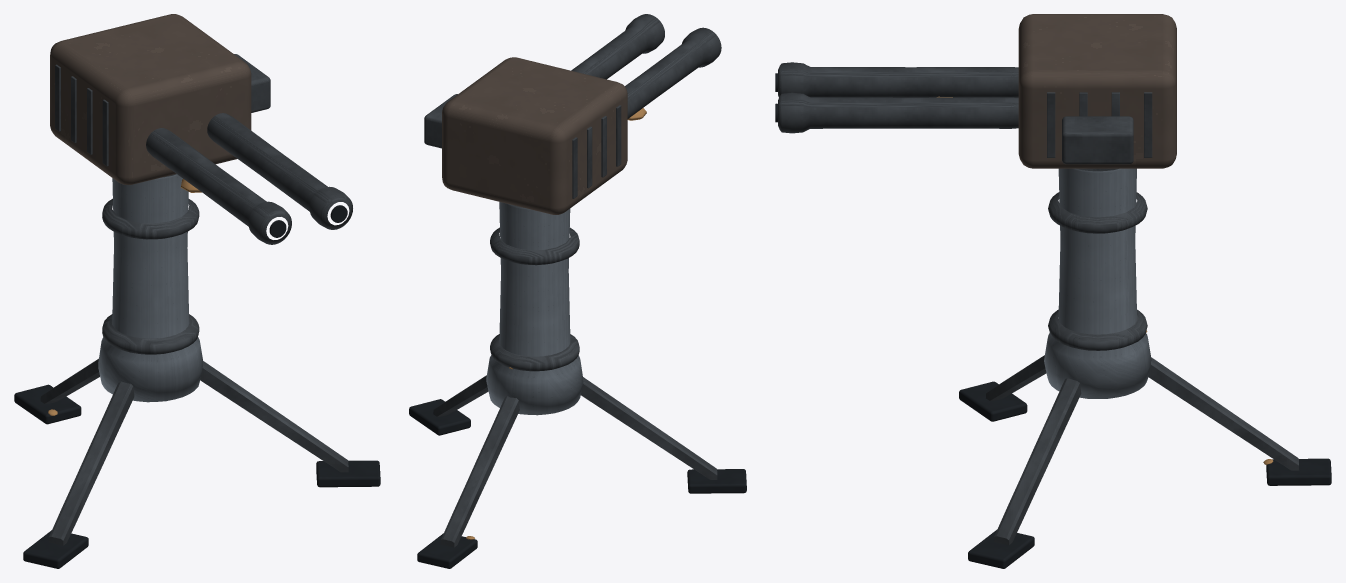
File: turret.lod1.glb
3 views of the same model, side by side, from view 1: azimuth 30°, elevation 25°; view 2: azimuth 150°, elevation 25°; view 3: azimuth 270°, elevation 25° (orthographic). The views are drawn at different scales.
Parts seen in each view (by area): view 1: darksteel / oil-blackened fittings, ceramic / ceramic composite panel, alloy / machined anodized alloy, polymer / stippled polymer; view 2: ceramic / ceramic composite panel, darksteel / oil-blackened fittings, alloy / machined anodized alloy, polymer / stippled polymer; view 3: darksteel / oil-blackened fittings, ceramic / ceramic composite panel, alloy / machined anodized alloy, polymer / stippled polymer.
Part boxes in pixels (x1,y1,x2,y2): darksteel / oil-blackened fittings: (40, 54, 352, 545); ceramic / ceramic composite panel: (50, 14, 251, 185); alloy / machined anodized alloy: (98, 174, 202, 402); polymer / stippled polymer: (14, 205, 380, 568); ceramic / ceramic composite panel: (442, 57, 627, 214); darksteel / oil-blackened fittings: (424, 14, 721, 547); alloy / machined anodized alloy: (486, 202, 583, 415); polymer / stippled polymer: (409, 399, 746, 568); darksteel / oil-blackened fittings: (778, 62, 1299, 545); ceramic / ceramic composite panel: (1018, 14, 1176, 168); alloy / machined anodized alloy: (1044, 168, 1151, 398); polymer / stippled polymer: (775, 73, 1331, 568).
Bounding box in the file's own units: 0.5897 × 0.671 × 0.7745.
5 materials, 4 textured.
